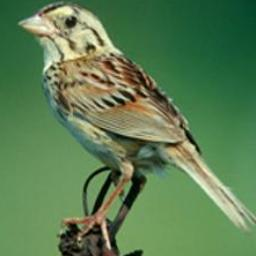Sparrow: (13, 0, 256, 251)
